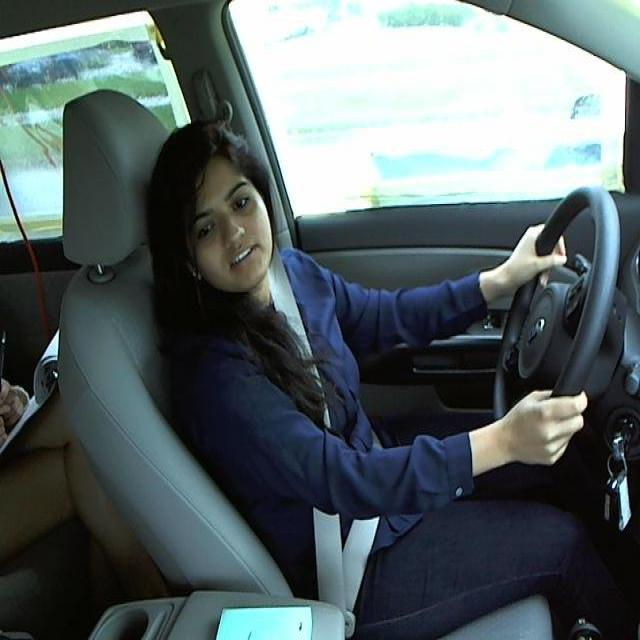seatbelt: (274, 294, 390, 590)
